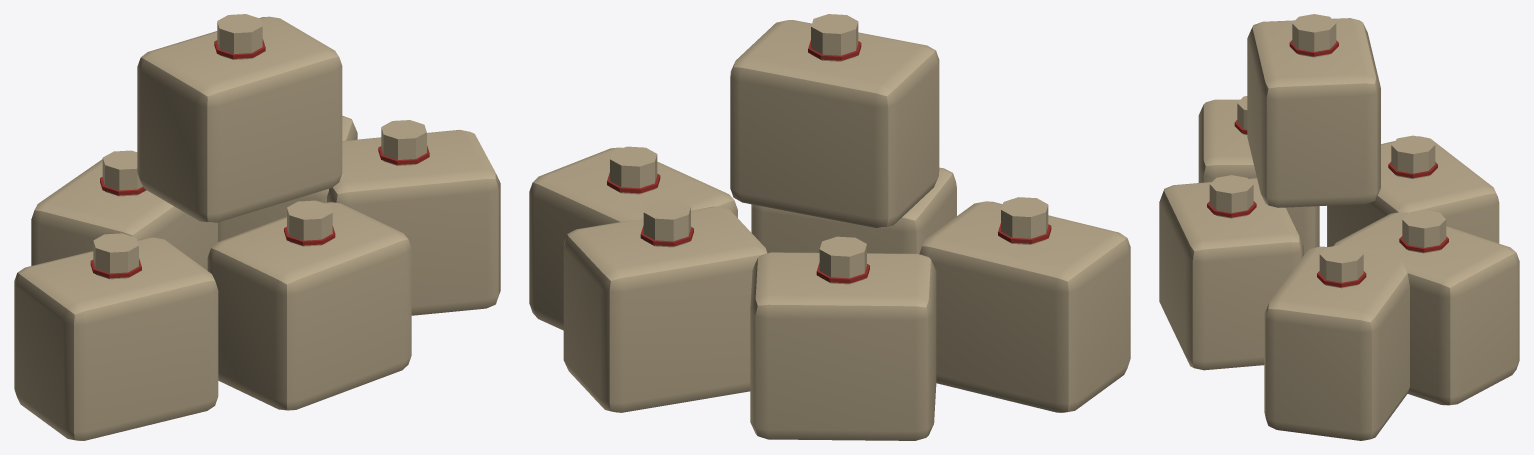
The model's file is prop_cash_bags.glb.
3 renders of one model, left to right at view 1: azimuth 30°, elevation 25°; view 2: azimuth 150°, elevation 25°; view 3: azimuth 270°, elevation 25°, orthographic. The views are drawn at different scales.
Parts seen in each view (by area): view 1: Bags; view 2: Bags; view 3: Bags.
Boxes of the visible parts, x1,y1,x2,y2 form: Bags: (14, 14, 500, 440); Bags: (529, 14, 1130, 440); Bags: (1159, 14, 1519, 440).
Bounding box in the file's own units: 0.9669 × 0.61 × 0.6552.
